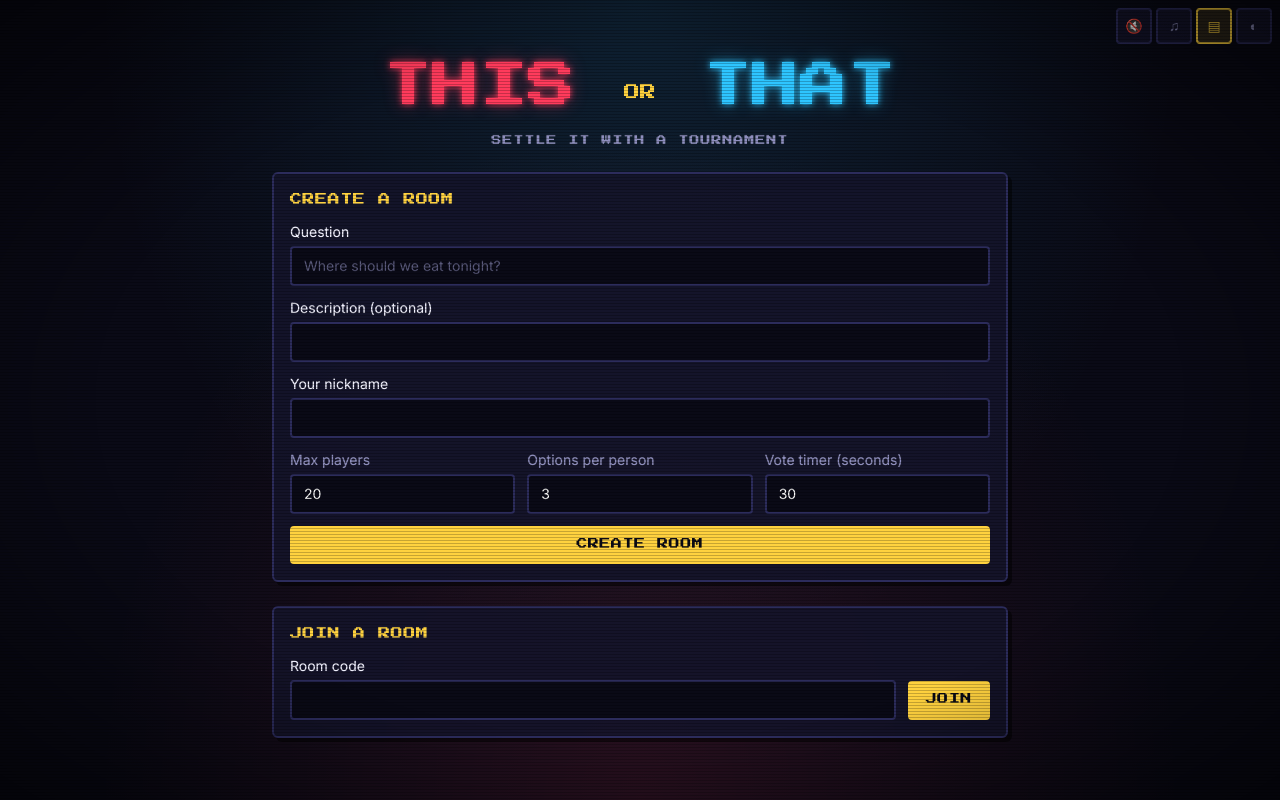
Test: Landing page › creates a room, stores the session and opens the lobby with the recovery link
Step 1. Type "Where should we eat?" into the field labelled "Question" → (640, 266), box left=290, top=246, right=990, bottom=286
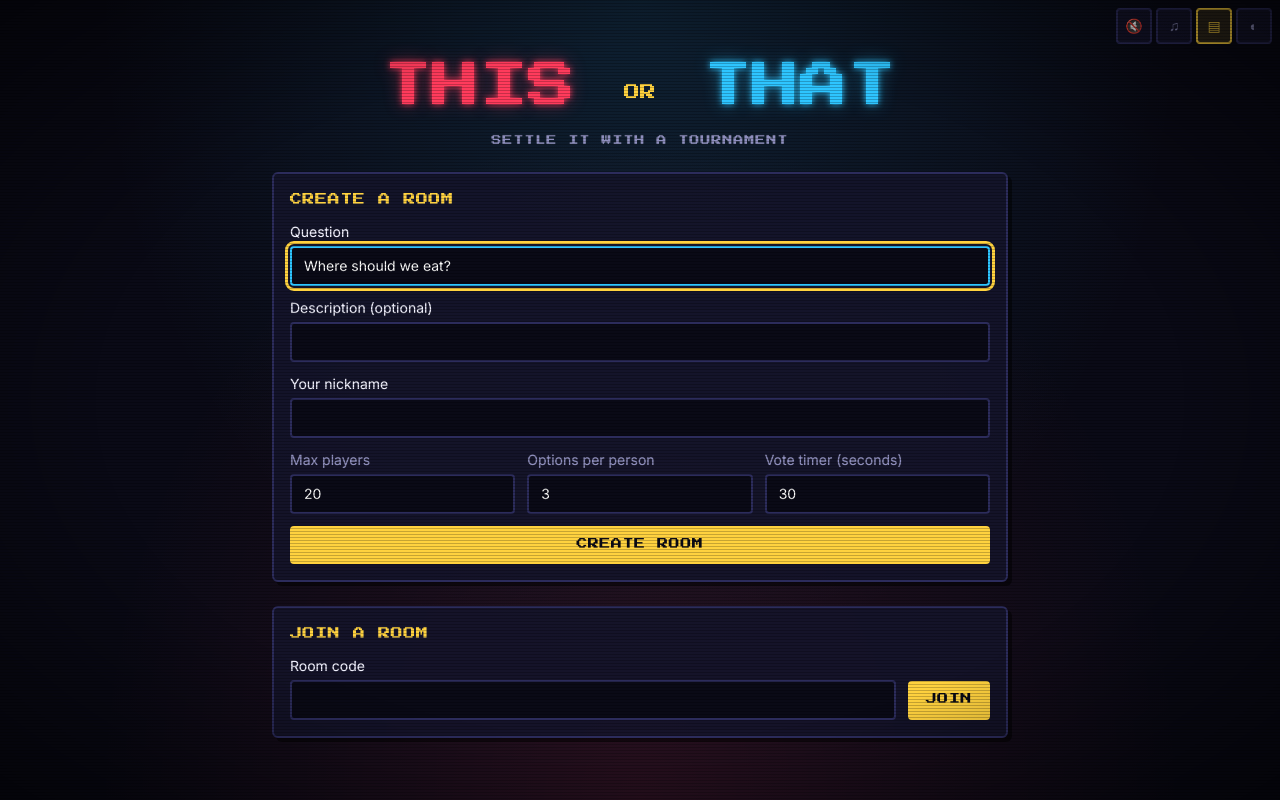
Step 2. Type "Ana" into the field labelled "Your nickname" → (640, 418), box left=290, top=398, right=990, bottom=438
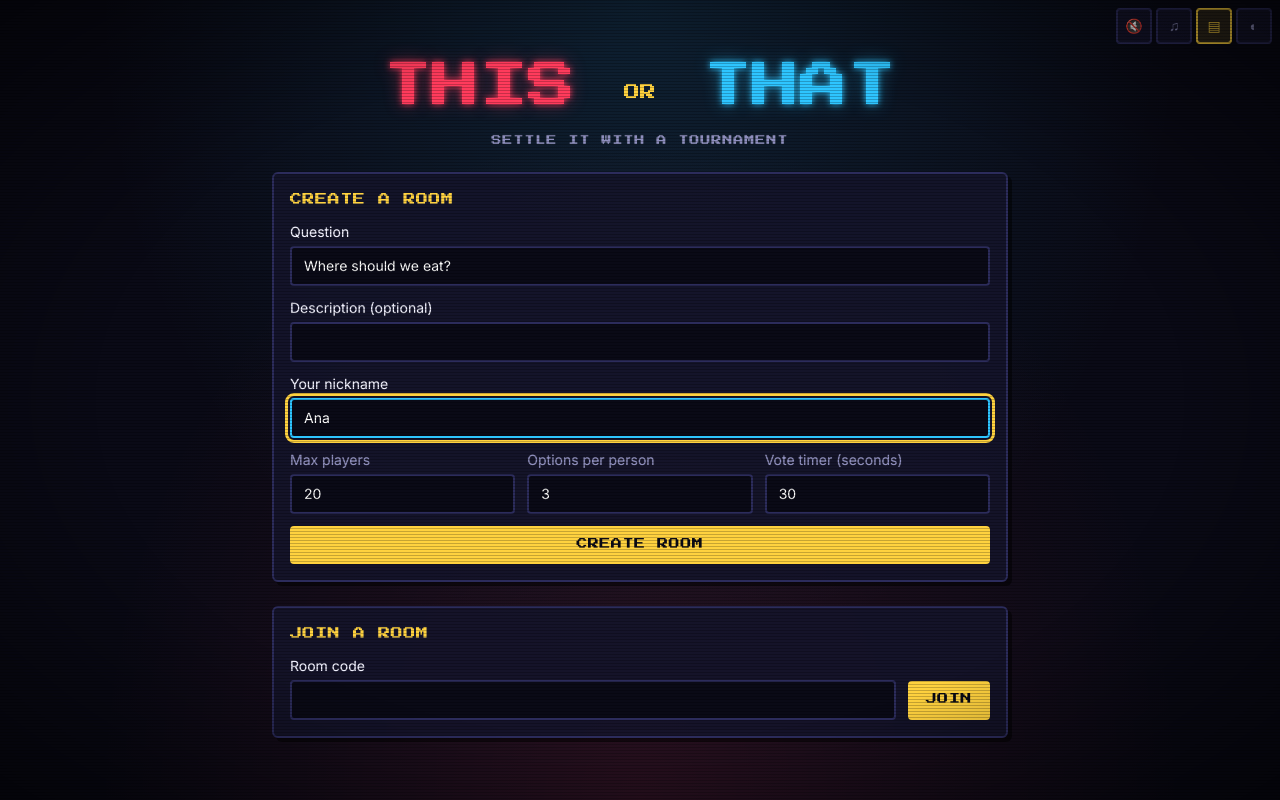
Step 3. Click the button "Create room" → click(640, 545), box left=290, top=526, right=990, bottom=564
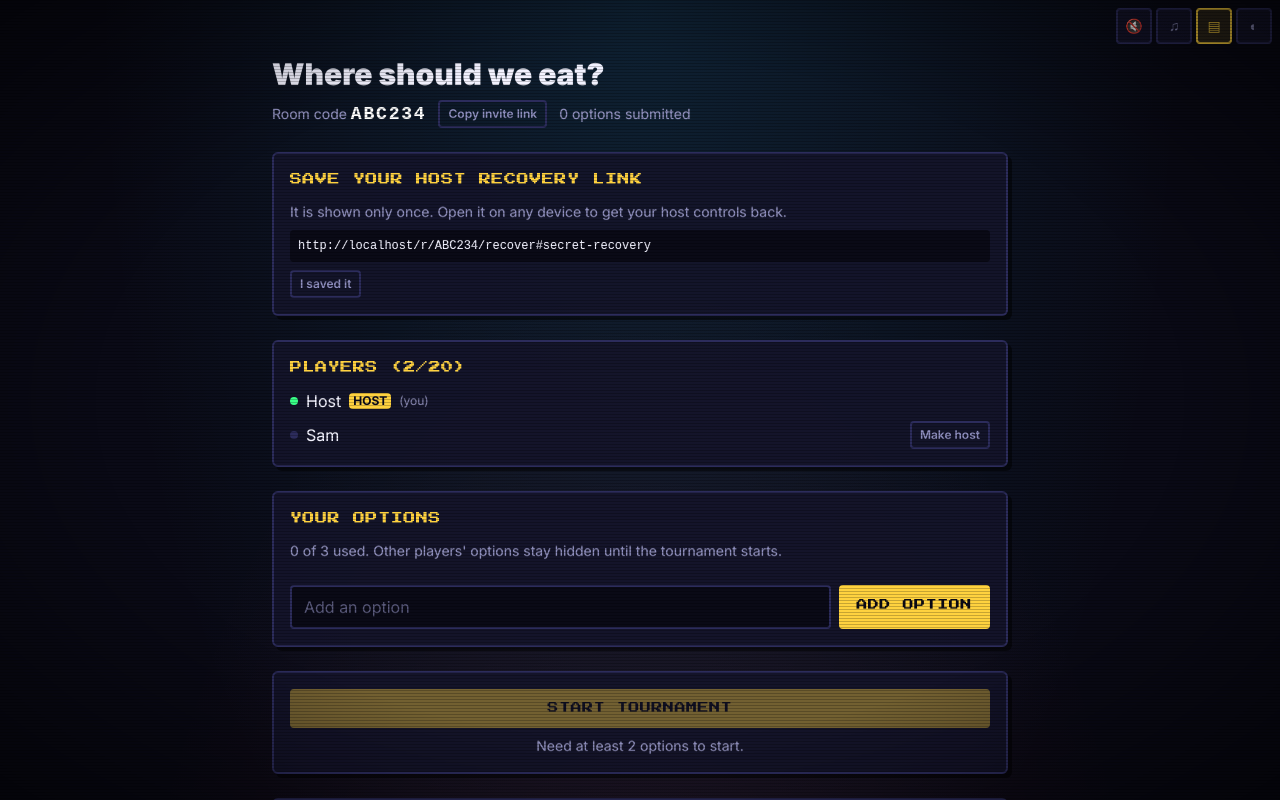
Expected: the heading "Where should we eat?" is shown, left=272, top=56, right=604, bottom=92
Expected: the text "http://localhost/r/ABC234/recover#secret-recovery" is shown, left=290, top=230, right=990, bottom=262
